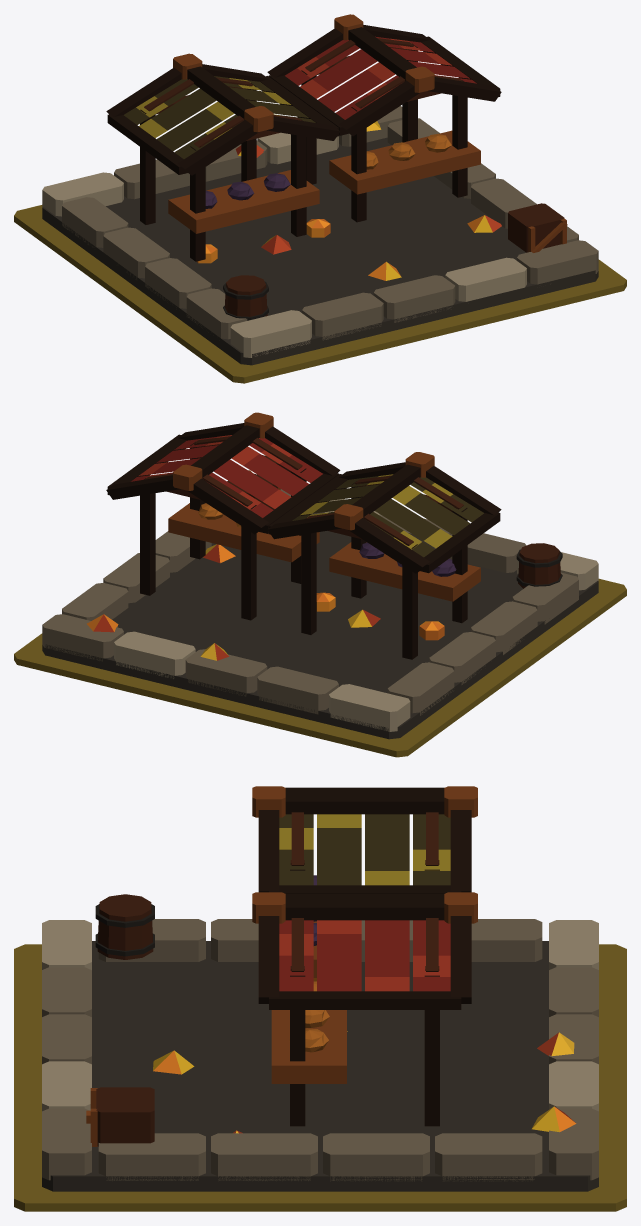
Rendered from market_t3.glb.
3 views of the same model, one above another, from view 1: azimuth 30°, elevation 25°; view 2: azimuth 150°, elevation 25°; view 3: azimuth 270°, elevation 25° (orthographic). The views are drawn at different scales.
Visible parts, largest first — view 1: MMR | market | T03 Architecture.001, MMR | market | Tier 03 Ground.001, MMR | market | T03 Autumn Dressing.001; view 2: MMR | market | T03 Architecture.001, MMR | market | Tier 03 Ground.001, MMR | market | T03 Autumn Dressing.001; view 3: MMR | market | T03 Architecture.001, MMR | market | Tier 03 Ground.001, MMR | market | T03 Autumn Dressing.001.
Part boxes in pixels (left/top/right/bottom): MMR | market | T03 Architecture.001: left=42, top=14, right=598, bottom=365; MMR | market | Tier 03 Ground.001: left=14, top=205, right=626, bottom=383; MMR | market | T03 Autumn Dressing.001: left=196, top=121, right=501, bottom=280; MMR | market | T03 Architecture.001: left=42, top=412, right=598, bottom=739; MMR | market | Tier 03 Ground.001: left=14, top=578, right=626, bottom=757; MMR | market | T03 Autumn Dressing.001: left=87, top=544, right=444, bottom=660; MMR | market | T03 Architecture.001: left=42, top=786, right=598, bottom=1191; MMR | market | Tier 03 Ground.001: left=14, top=944, right=626, bottom=1211; MMR | market | T03 Autumn Dressing.001: left=153, top=978, right=576, bottom=1133.
Size of the model in its own units: 3.3 by 1.41 by 3.3.
Materials: 1 (1 with a texture image).
